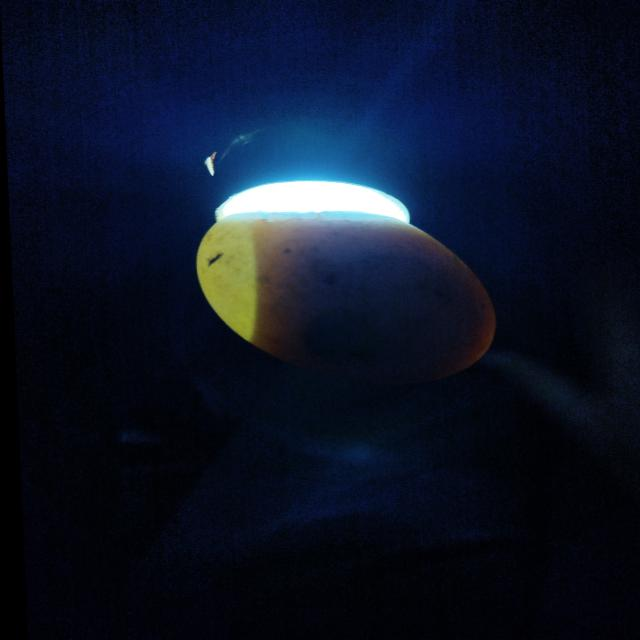Area Infectada: (255, 229, 484, 383)
